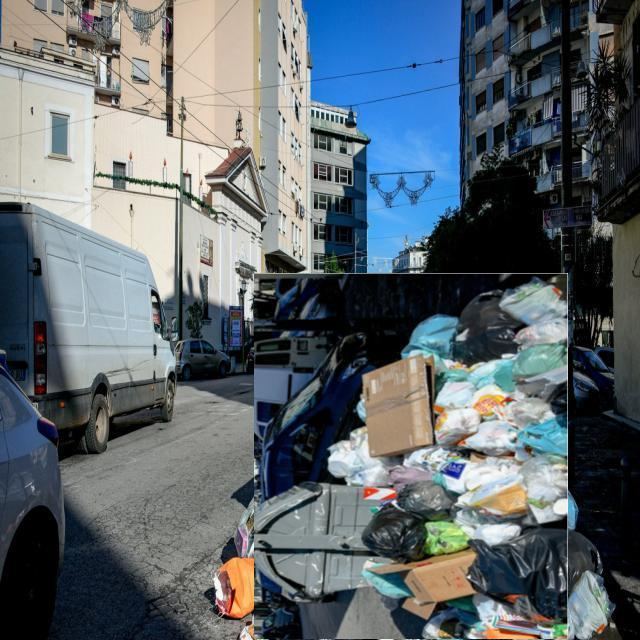Trashbag: (471, 522, 564, 622), (451, 280, 524, 369), (353, 498, 433, 572)
